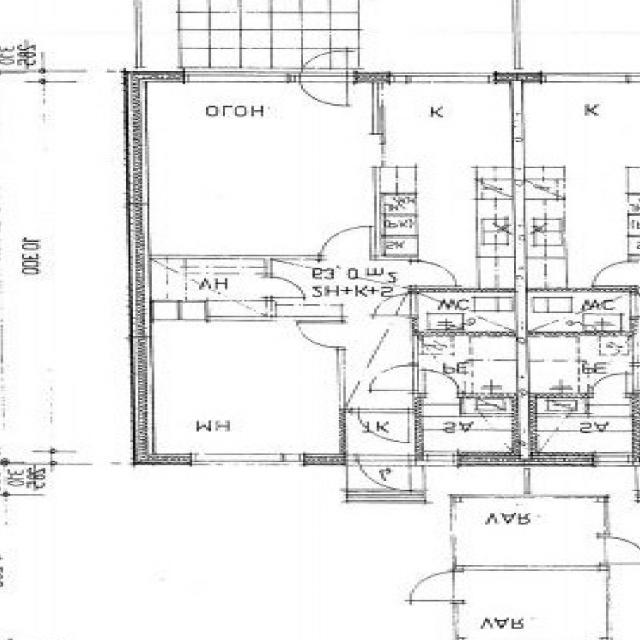door: (360, 454, 410, 496), (299, 41, 348, 82), (299, 71, 348, 112), (320, 224, 370, 259), (358, 409, 408, 442), (408, 572, 463, 600), (374, 365, 422, 390), (301, 322, 347, 347), (414, 262, 460, 285), (426, 372, 458, 398), (381, 294, 422, 314), (266, 278, 304, 297)
